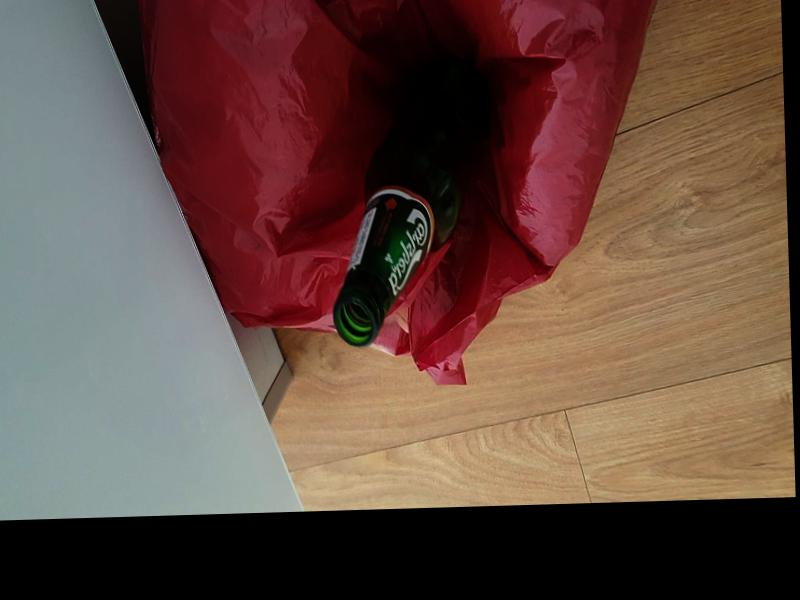Beer: (327, 60, 499, 349)
